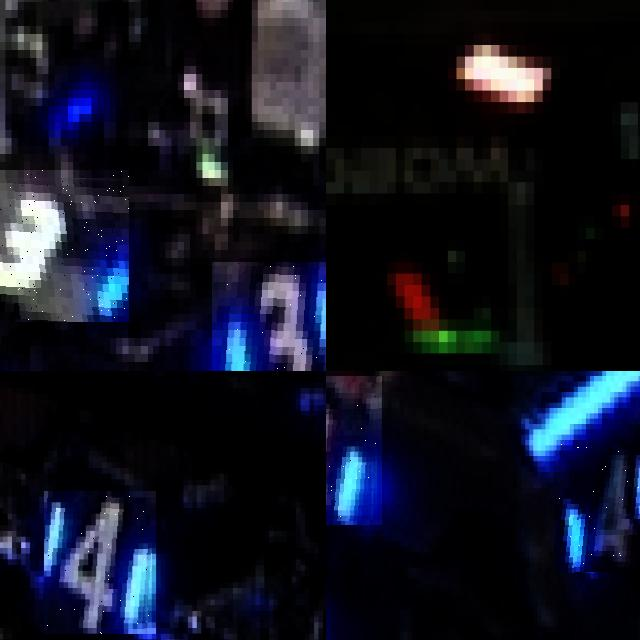B3: (0, 170, 128, 322), (211, 262, 326, 371)
B4: (44, 491, 156, 634), (553, 434, 640, 573), (326, 375, 383, 525)
